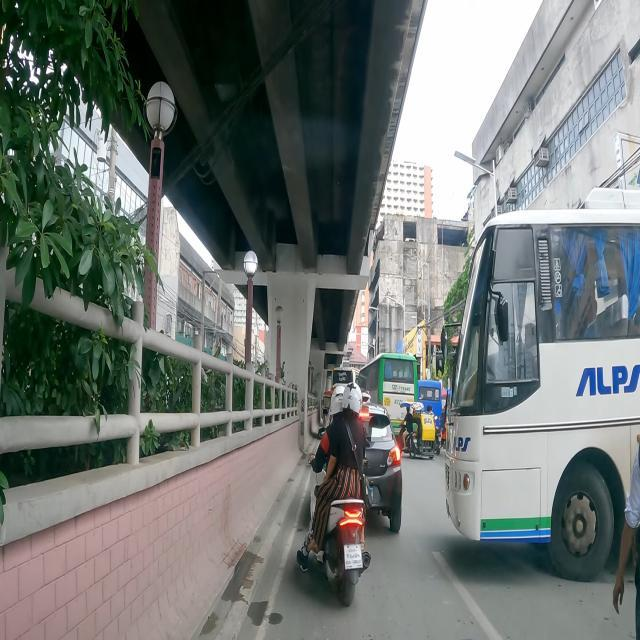bus: (445, 209, 640, 581), (358, 353, 418, 435), (417, 378, 443, 428), (332, 367, 358, 389)
car: (360, 402, 402, 532)
motorcycle: (308, 383, 370, 609), (427, 405, 442, 455)
tricycle: (400, 403, 436, 458)
